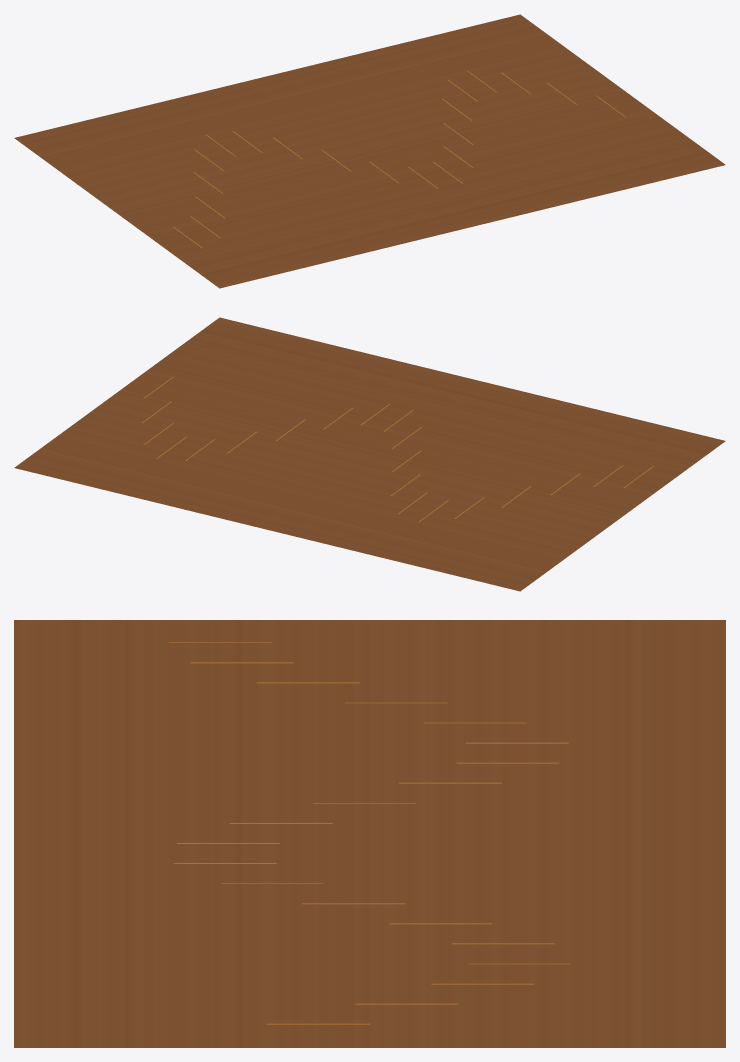
File: 250_L118_L13_LayerReference.obj
3 renders of one model, top to bottom at view 1: azimuth 30°, elevation 25°; view 2: azimuth 150°, elevation 25°; view 3: azimuth 270°, elevation 25°, orthographic. The views are drawn at different scales.
Visible parts, largest first — view 1: 250_L118_L13_LayerReference; view 2: 250_L118_L13_LayerReference; view 3: 250_L118_L13_LayerReference.
Boxes of the visible parts, left/top/right/bottom form: 250_L118_L13_LayerReference: left=14, top=14, right=725, bottom=288; 250_L118_L13_LayerReference: left=14, top=317, right=725, bottom=591; 250_L118_L13_LayerReference: left=14, top=620, right=725, bottom=1047.
Size of the model in its own units: 0.472 by 0.000504 by 0.332.
Materials: 2 (2 with a texture image).
